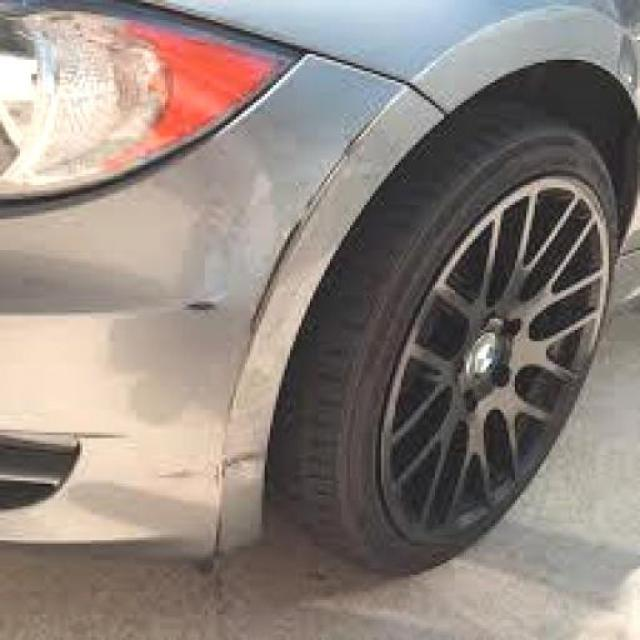car damage: (240, 121, 374, 353), (179, 289, 227, 323)
